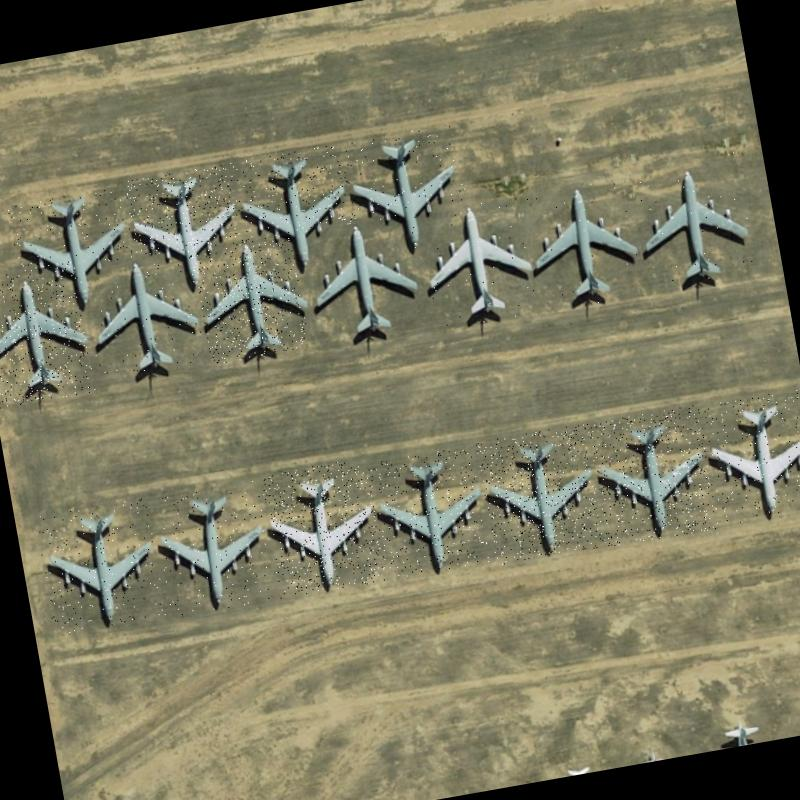A14: (629, 149, 764, 296), (587, 404, 720, 548), (34, 497, 167, 636), (476, 424, 606, 566), (224, 143, 362, 276), (297, 214, 430, 352), (259, 457, 387, 600), (341, 121, 474, 258), (523, 174, 650, 316), (152, 480, 278, 618), (7, 186, 144, 312), (365, 446, 492, 580), (417, 193, 539, 332), (80, 251, 206, 382), (125, 163, 250, 294), (191, 230, 310, 366), (0, 261, 96, 409), (701, 388, 800, 526)
